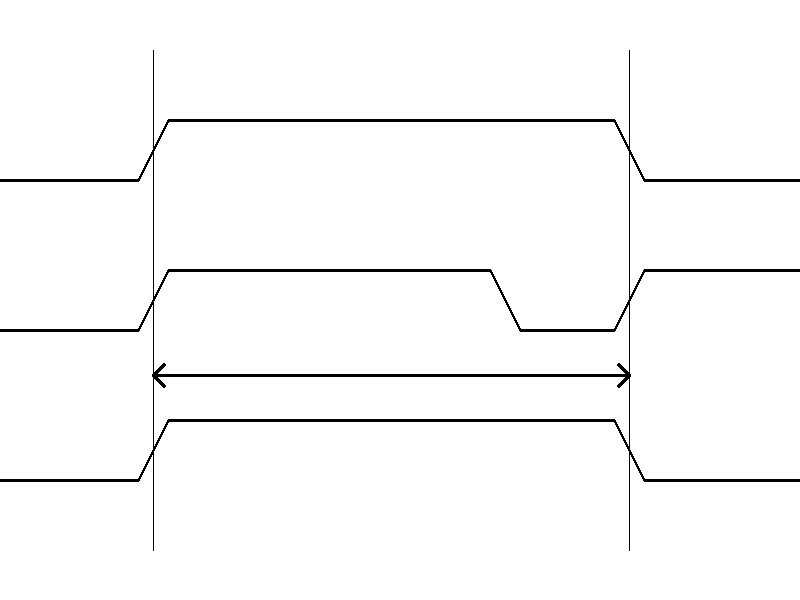double_arrow: (153, 360, 629, 390)
